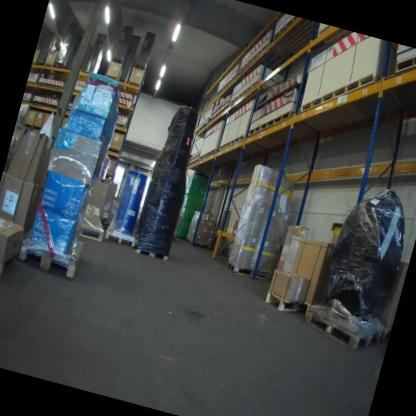pallet: (295, 297, 388, 360), (14, 223, 87, 283), (225, 252, 273, 284), (103, 223, 139, 249), (133, 240, 170, 263), (184, 237, 210, 250), (52, 61, 66, 70), (110, 55, 123, 64), (134, 62, 146, 71), (35, 60, 44, 66)
